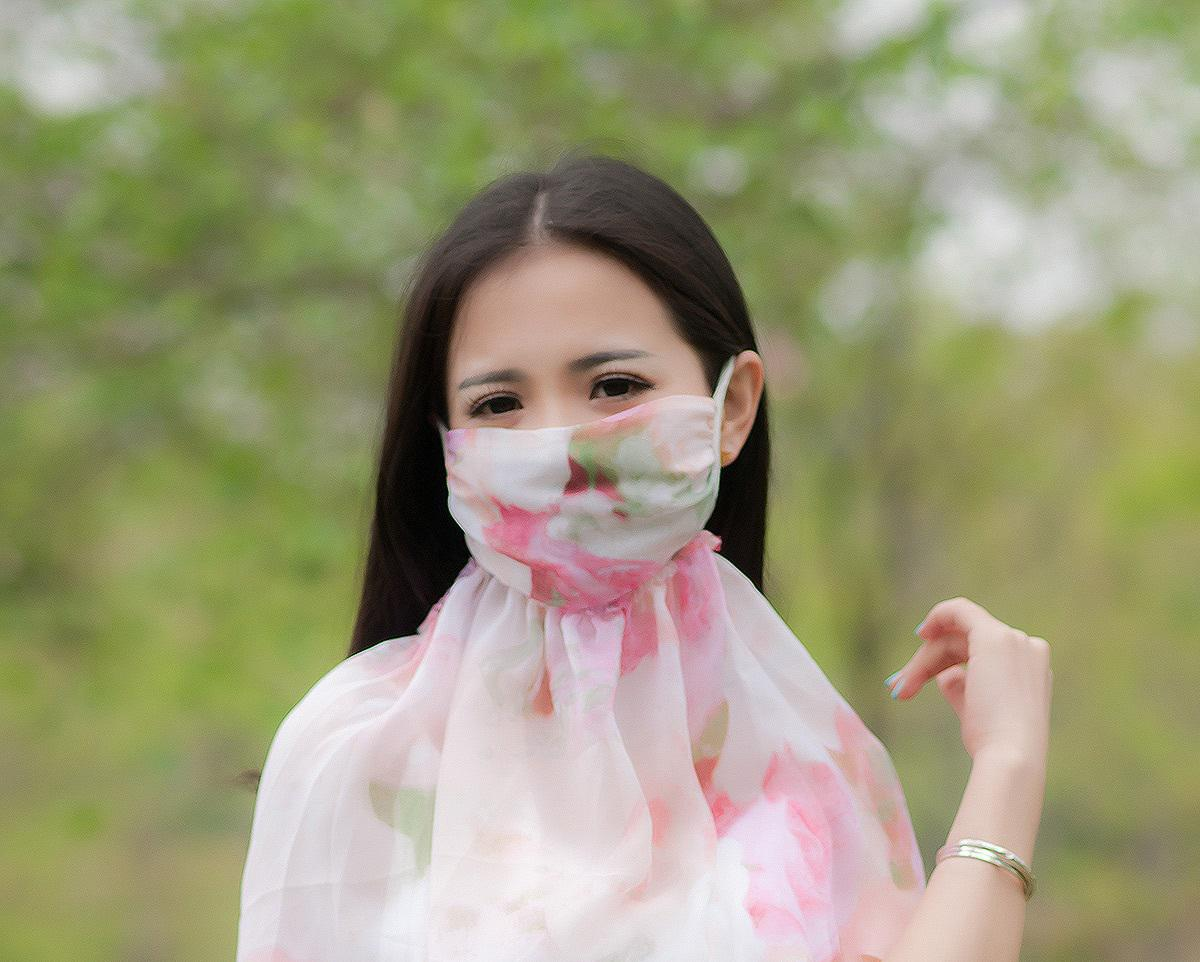OK: (446, 323, 713, 590)
